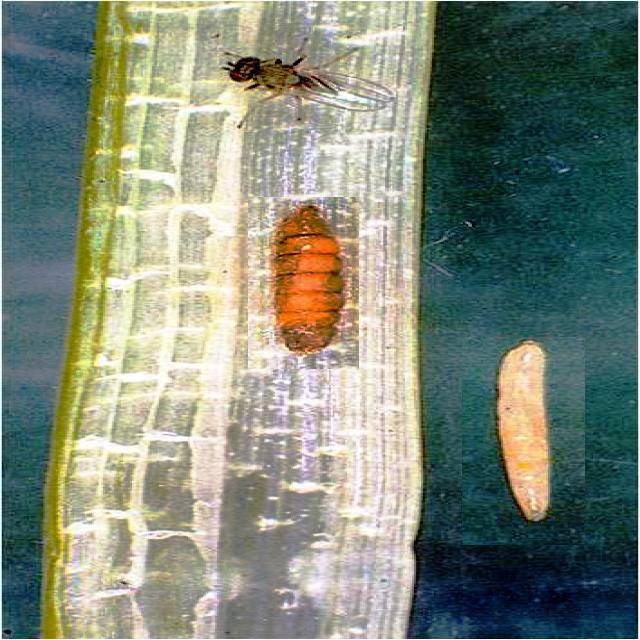whorl-maggot: (462, 337, 585, 545), (248, 197, 359, 369)
